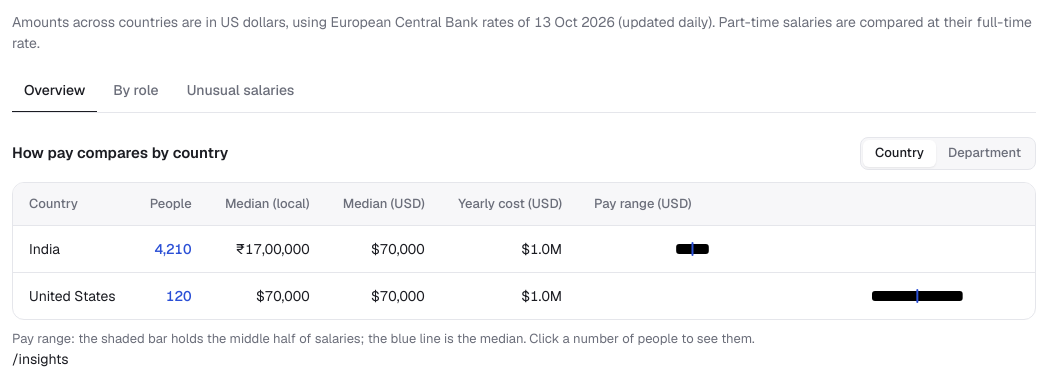
it: Insights overview › switches to departments
This screenshot has width=1048, height=384.
Check: the text "India" is shown, box [13, 226, 133, 273]
Click the radio button labelled "Department". click: (984, 153)
box: [936, 140, 1033, 167]
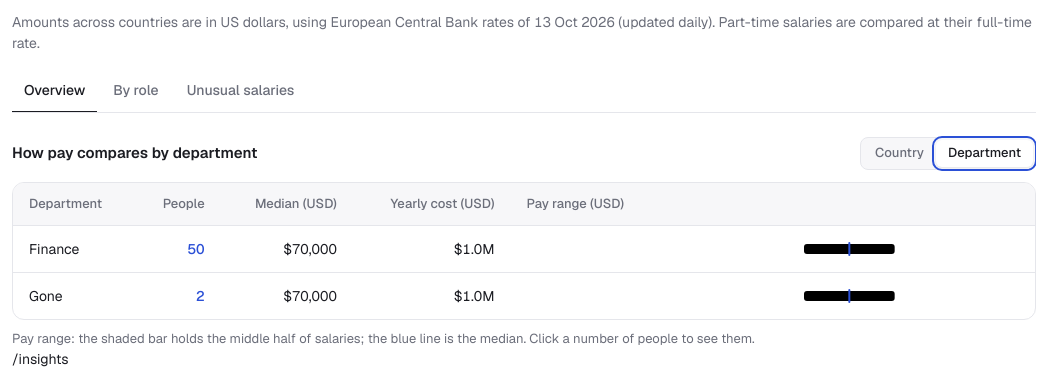
Check: the column heading "Median (local)" is gone
